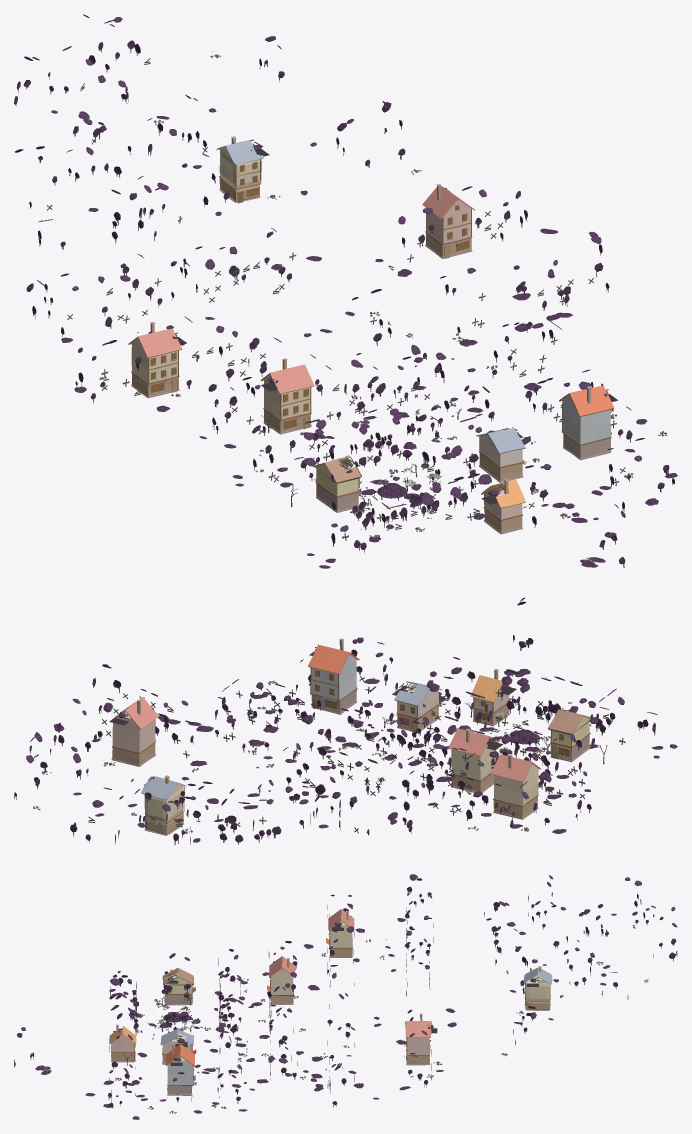
File: town_ruin.glb
The picture shows the model from 3 angles, top to bottom: view 1: azimuth 30°, elevation 25°; view 2: azimuth 150°, elevation 25°; view 3: azimuth 270°, elevation 25°; orthographic projection. The views are drawn at different scales.
Parts seen in each view (by area): view 1: RU_East, RU_TerracesW, RU_North, RU_TerracesE, RU_Hillside, RU_Main, RU_Plaza_House7, RU_Hillside_Walls, RU_South, RU_Plaza_Walls, RU_TerracesW_Walls, RU_Plaza_Roofs (+3 smaller); view 2: RU_East, RU_TerracesW, RU_TerracesE, RU_North, RU_Hillside, RU_Plaza_House7, RU_Main, RU_Hillside_Walls, RU_South, RU_TerracesW_Walls, RU_Plaza_Roofs, RU_Hillside_Roofs (+10 smaller); view 3: RU_East, RU_TerracesE, RU_North, RU_Hillside, RU_TerracesW, RU_Plaza_House7, RU_Hillside_Walls, RU_South, RU_Hillside_Roofs, RU_Plaza_Walls, RU_Plaza_Roofs, RU_Main (+1 smaller).
Boxes of the visible parts, bbox=[...] form: RU_East: bbox=[559, 385, 613, 460]; RU_TerracesW: bbox=[128, 322, 182, 398]; RU_North: bbox=[260, 358, 314, 434]; RU_TerracesE: bbox=[422, 184, 474, 258]; RU_Hillside: bbox=[216, 136, 263, 203]; RU_Main: bbox=[476, 428, 525, 482]; RU_Plaza_House7: bbox=[313, 455, 361, 512]; RU_Hillside_Walls: bbox=[14, 40, 405, 249]; RU_South: bbox=[481, 479, 525, 534]; RU_Plaza_Walls: bbox=[300, 432, 473, 530]; RU_TerracesW_Walls: bbox=[32, 257, 291, 403]; RU_Plaza_Roofs: bbox=[294, 409, 491, 509]; RU_East: bbox=[308, 638, 359, 714]; RU_TerracesW: bbox=[491, 754, 541, 819]; RU_TerracesE: bbox=[109, 697, 158, 766]; RU_North: bbox=[448, 728, 498, 792]; RU_Hillside: bbox=[141, 775, 186, 835]; RU_Plaza_House7: bbox=[547, 701, 590, 762]; RU_Main: bbox=[394, 681, 441, 732]; RU_Hillside_Walls: bbox=[14, 745, 412, 845]; RU_South: bbox=[470, 669, 511, 726]; RU_TerracesW_Walls: bbox=[286, 761, 591, 827]; RU_Plaza_Roofs: bbox=[427, 669, 624, 744]; RU_Hillside_Roofs: bbox=[26, 732, 397, 824]; RU_East: bbox=[166, 1043, 195, 1095]; RU_TerracesE: bbox=[405, 1013, 431, 1065]; RU_North: bbox=[267, 956, 295, 1004]; RU_Hillside: bbox=[523, 966, 552, 1010]; RU_TerracesW: bbox=[326, 909, 354, 957]; RU_Plaza_House7: bbox=[162, 968, 195, 1005]; RU_Hillside_Walls: bbox=[484, 892, 677, 1045]; RU_South: bbox=[109, 1024, 136, 1062]; RU_Hillside_Roofs: bbox=[486, 875, 677, 1019]; RU_Plaza_Walls: bbox=[129, 971, 241, 1035]; RU_Plaza_Roofs: bbox=[109, 953, 243, 1020]; RU_Main: bbox=[160, 1029, 196, 1064].
Size of the model in its own units: 114 by 48.58 by 186.
